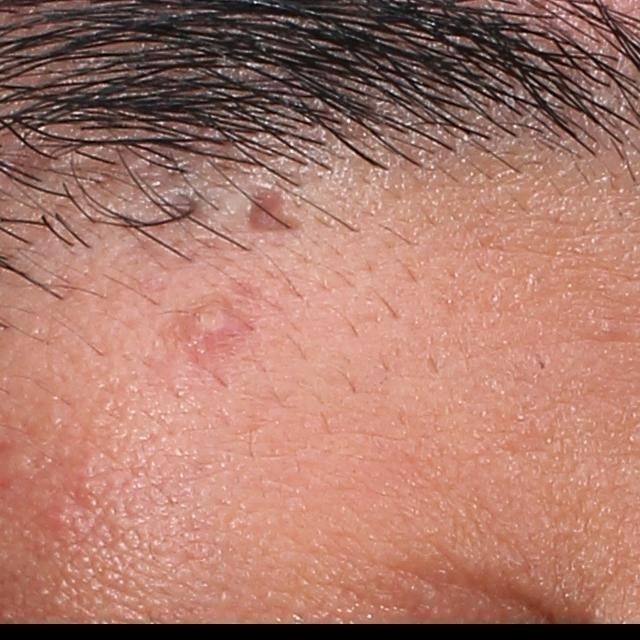atrophic_scar: (244, 185, 307, 239)
pustule: (190, 298, 238, 343)
